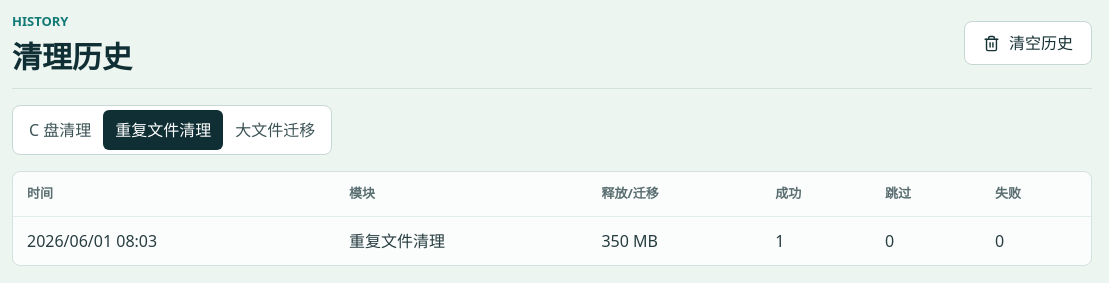
Scenario: HistoryPage › shows sanitized C drive cleanup history when the C drive tab is selected
Expected: the tab "重复文件清理" is shown, x1=103 y1=110 x2=223 y2=150
Click the tab "C 盘清理" at (60, 130), box x1=17 y1=110 x2=103 y2=150
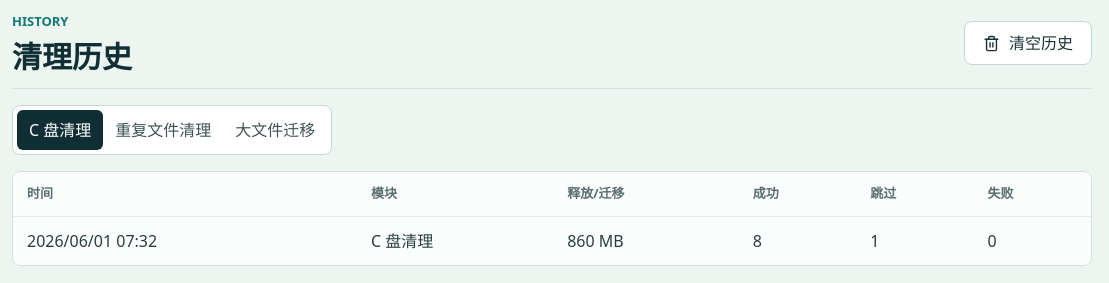
Result: the cell "C 盘清理" is shown at x1=357 y1=216 x2=553 y2=264
Result: the cell "860 MB" is shown at x1=553 y1=216 x2=739 y2=264
Result: the cell "8" is shown at x1=739 y1=216 x2=856 y2=264
